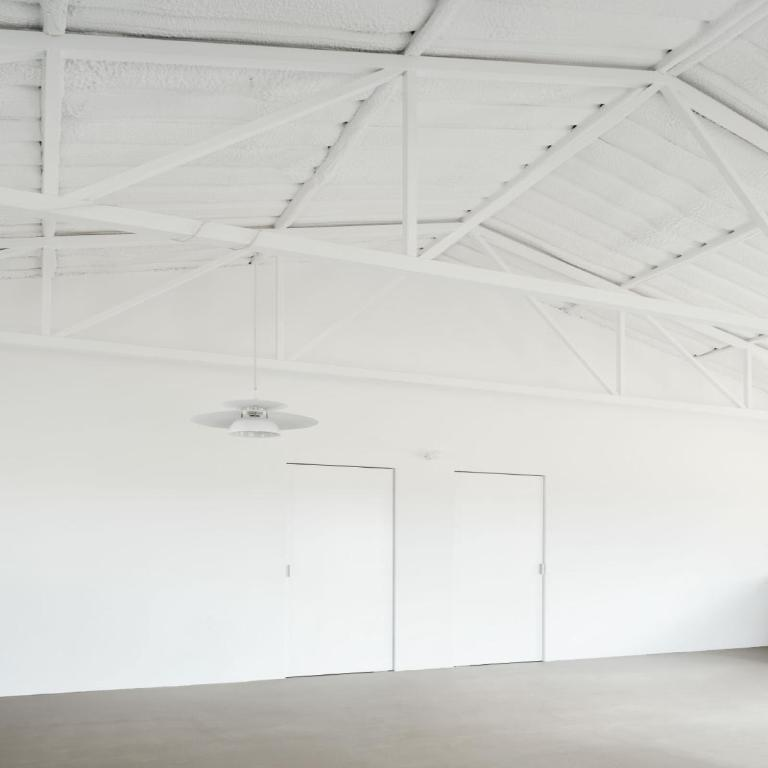white-walls: (565, 432, 760, 647)
